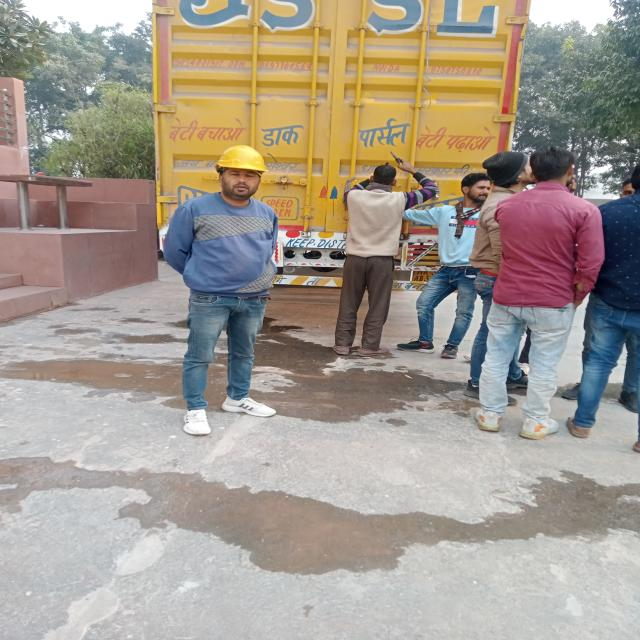no jacket: (168, 140, 282, 435)
unsafe: (486, 146, 596, 444), (328, 157, 403, 357), (412, 172, 486, 358)
